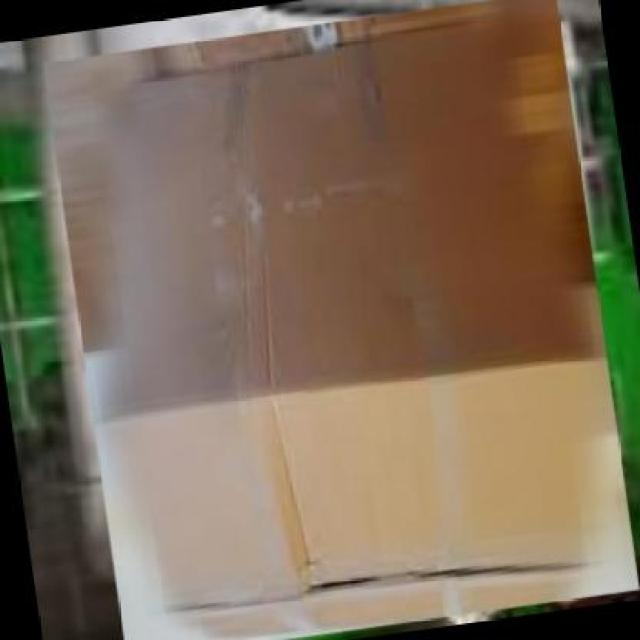box: (32, 0, 640, 640)
